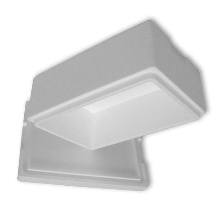foam_box: (11, 14, 212, 197)
